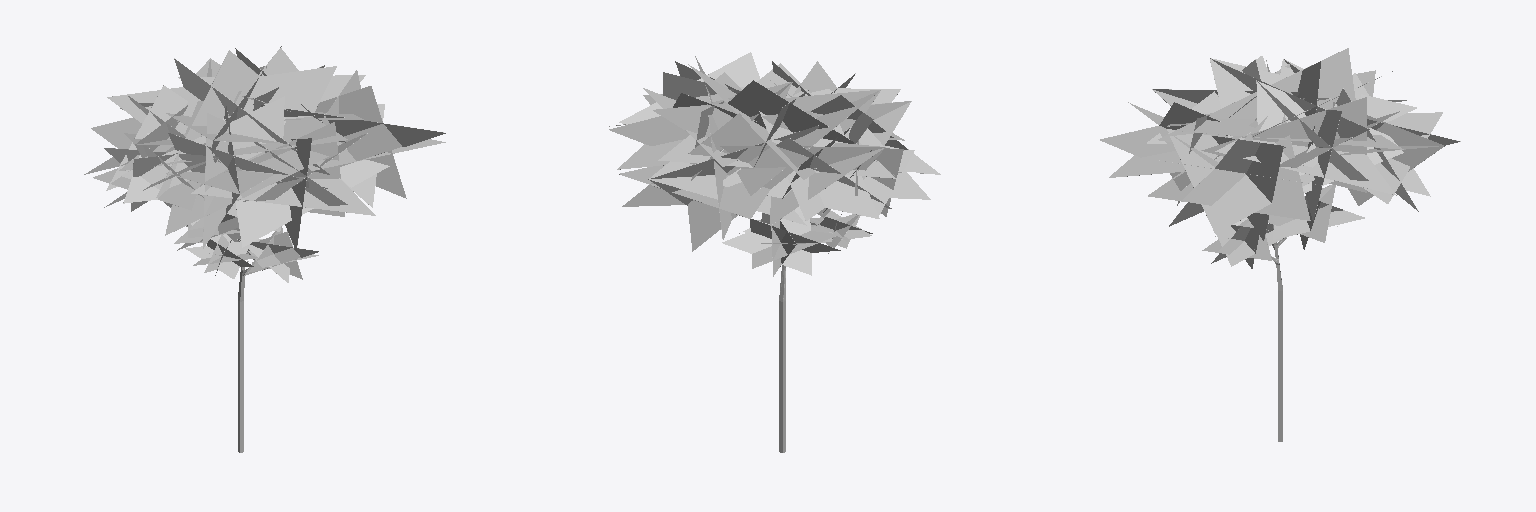
The model's file is KohmForest-Centre.obj.
3 renders of one model, left to right at view 1: azimuth 30°, elevation 25°; view 2: azimuth 150°, elevation 25°; view 3: azimuth 270°, elevation 25°, orthographic.
Parts seen in each view (by area): view 1: Plane.013_Circle.008; view 2: Plane.013_Circle.008; view 3: Plane.013_Circle.008.
Part boxes in pixels (x1,y1,x2,y2): Plane.013_Circle.008: (84,46,445,452); Plane.013_Circle.008: (609,52,940,452); Plane.013_Circle.008: (1100,48,1460,441).
Bounding box in the file's own units: 122 × 142 × 121.